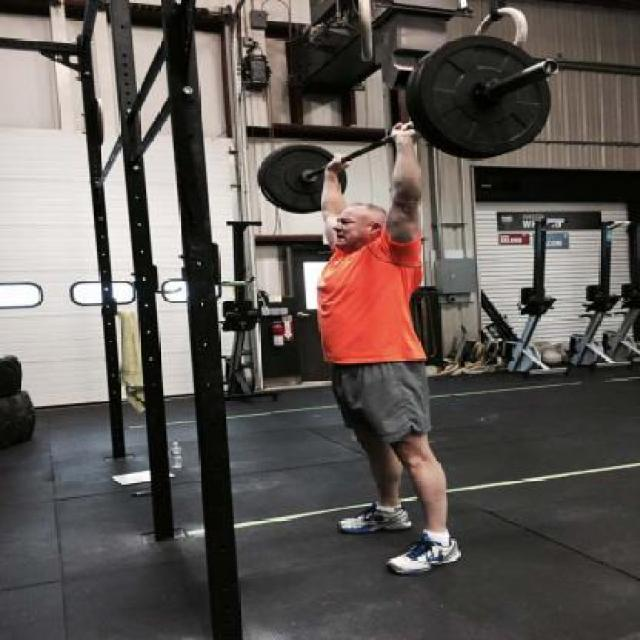barbell: (406, 30, 566, 164)
